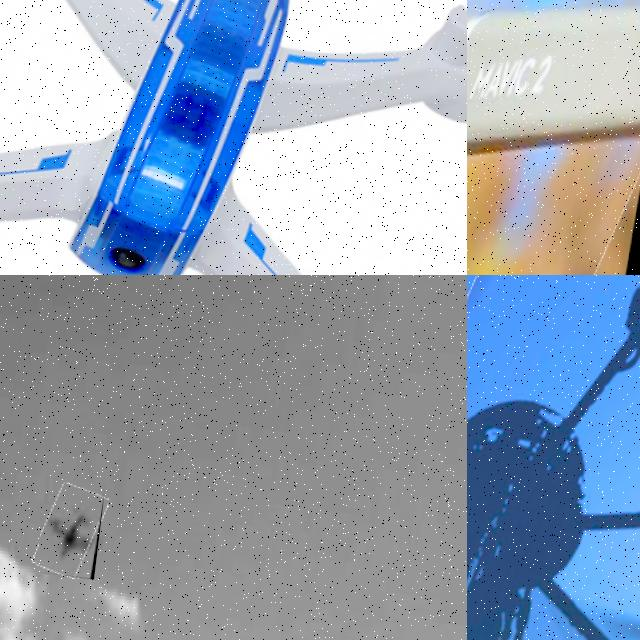0: (34, 482, 104, 580)
drone: (0, 0, 467, 275), (467, 275, 640, 640), (467, 0, 640, 275)
